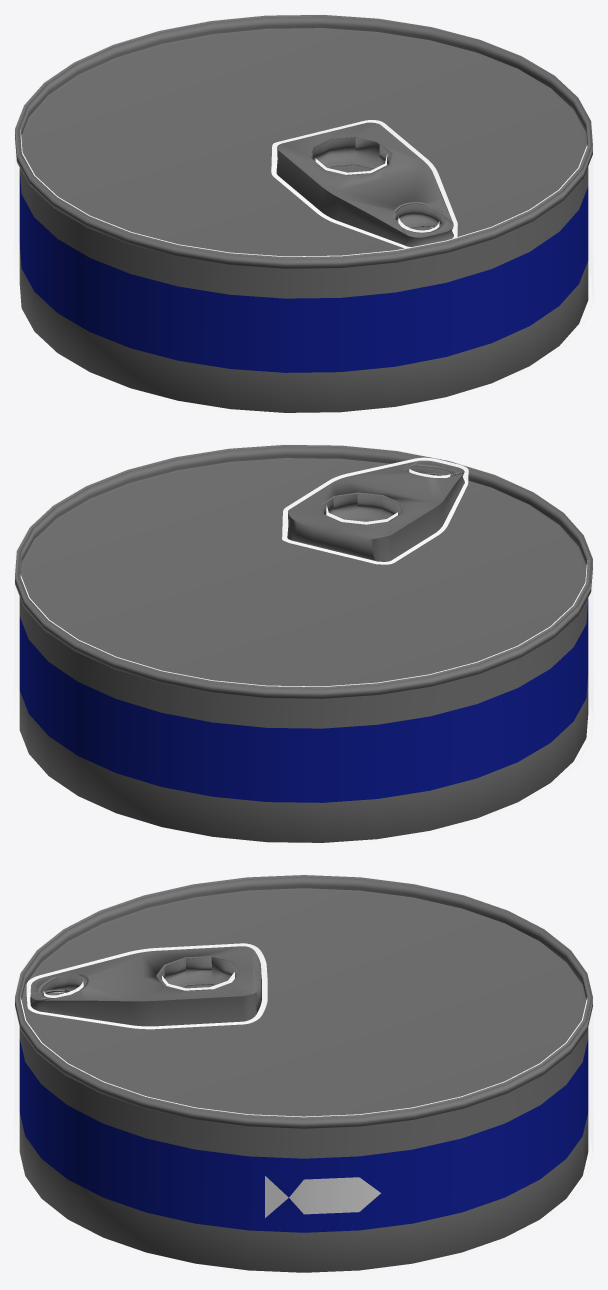
File: lata3.glb
3 renders of one model, top to bottom at view 1: azimuth 30°, elevation 25°; view 2: azimuth 150°, elevation 25°; view 3: azimuth 270°, elevation 25°, orthographic.
Parts seen in each view (by area): view 1: Cylinder; view 2: Cylinder; view 3: Cylinder.
Part boxes in pixels (x1,y1,x2,y2): Cylinder: (14,14,593,415); Cylinder: (14,444,593,845); Cylinder: (14,874,593,1275).
Bounding box in the file's own units: 3.07 × 1.07 × 3.07.
